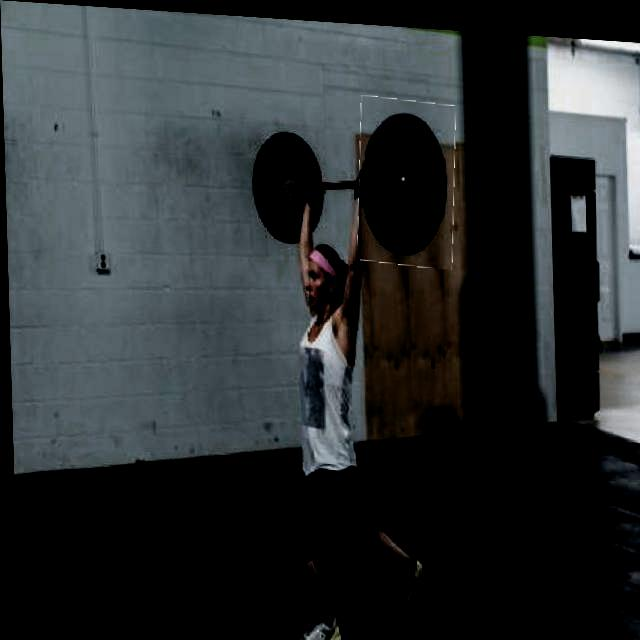barbell: (355, 91, 457, 263)
